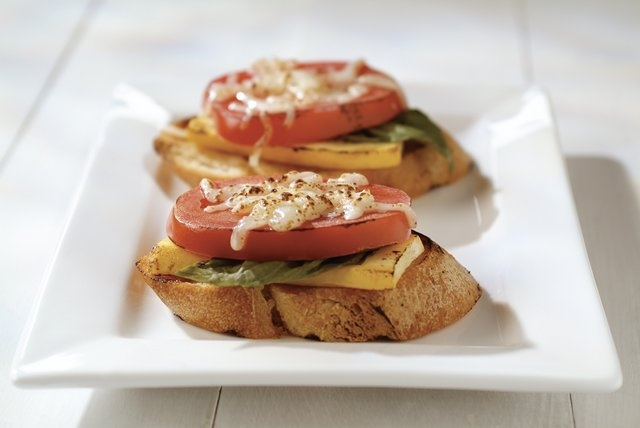background: (134, 35, 483, 227)
